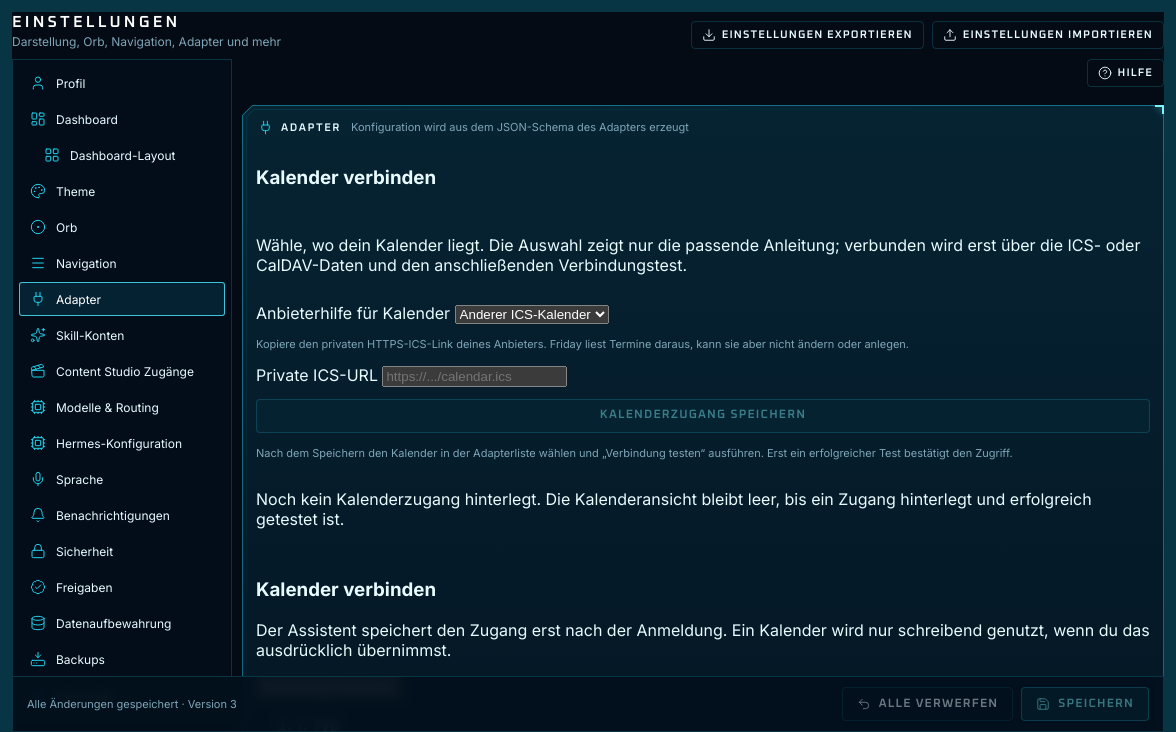
Test: calendar provider guidance › guides common providers without changing saved settings or losing drafts
Check: the text "Die Auswahl zeigt nur die passende Anleitung" is shown, box [256,235,1140,275]
Select "Google Kalender" in the dropdown labelled "Anbieterhilfe für Kalender" at (532,315), box [455,305,609,324]
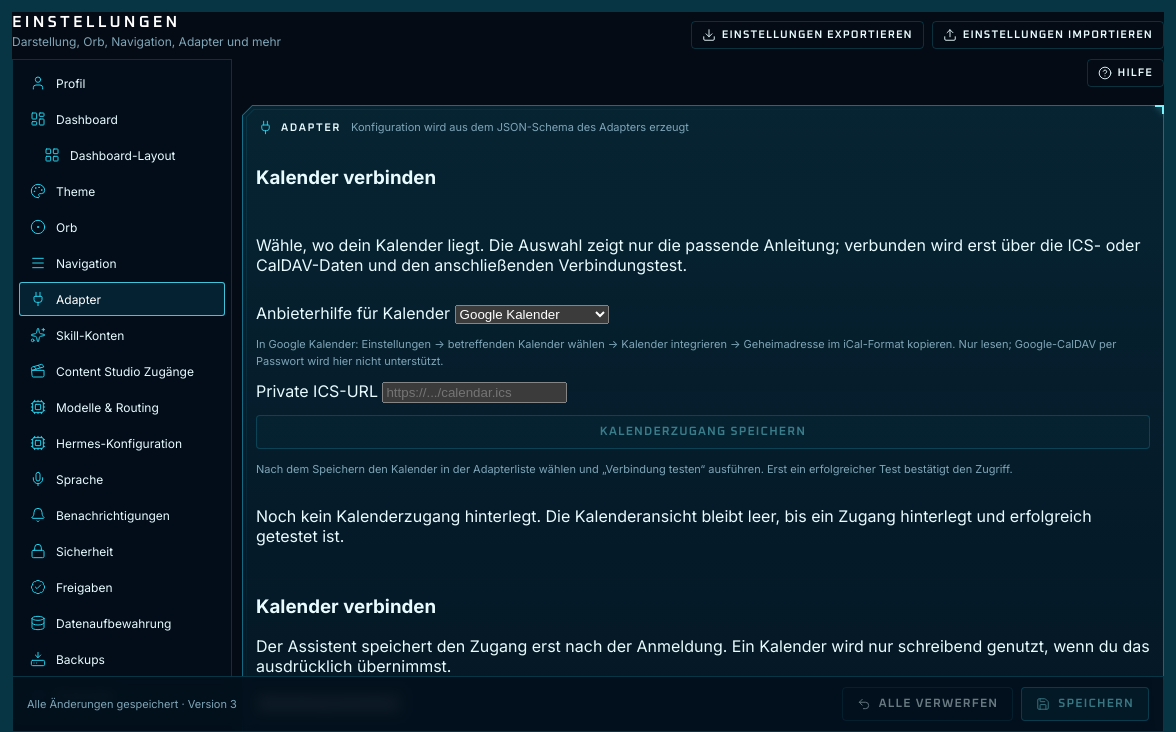
Check: the text "Google-CalDAV per Passwort wird hier nicht unterstützt" is shown, box [256,337,1116,368]
Type "https://example.test/private.ics" into the password field labelled "Private ICS-URL" at (475,393), box [382,382,567,403]
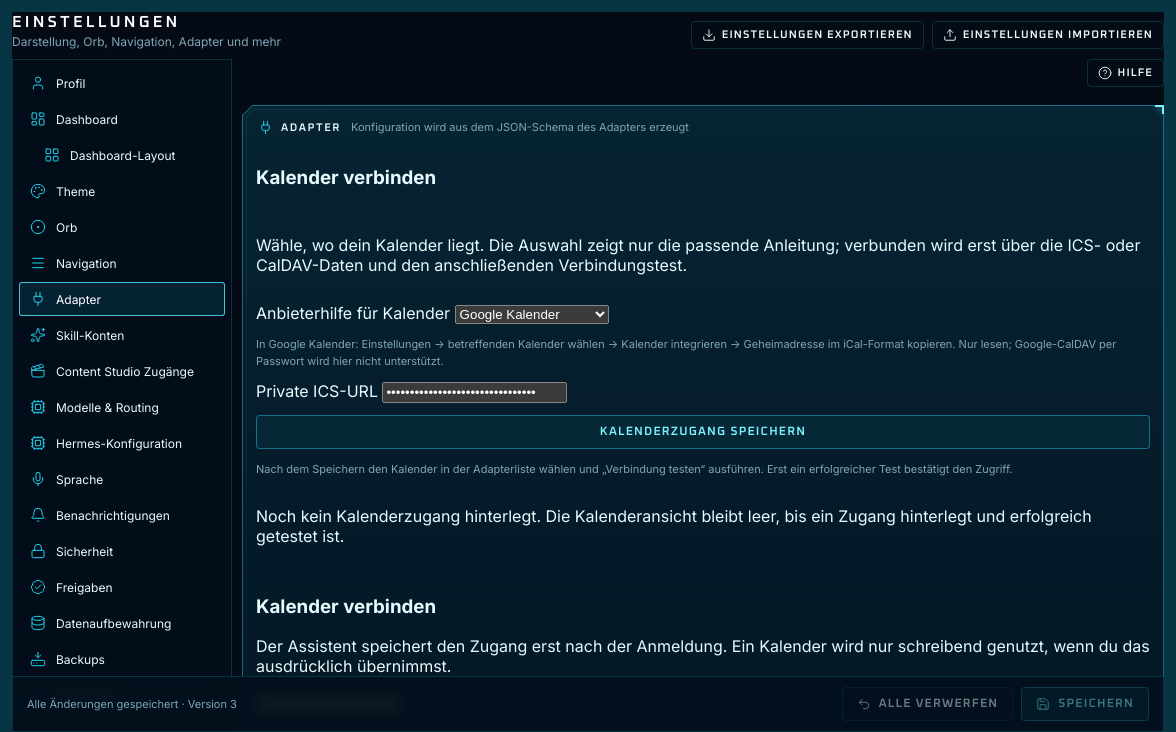
Select "Outlook.com" in the dropdown labelled "Anbieterhilfe für Kalender" at (532,315), box [455,305,609,324]
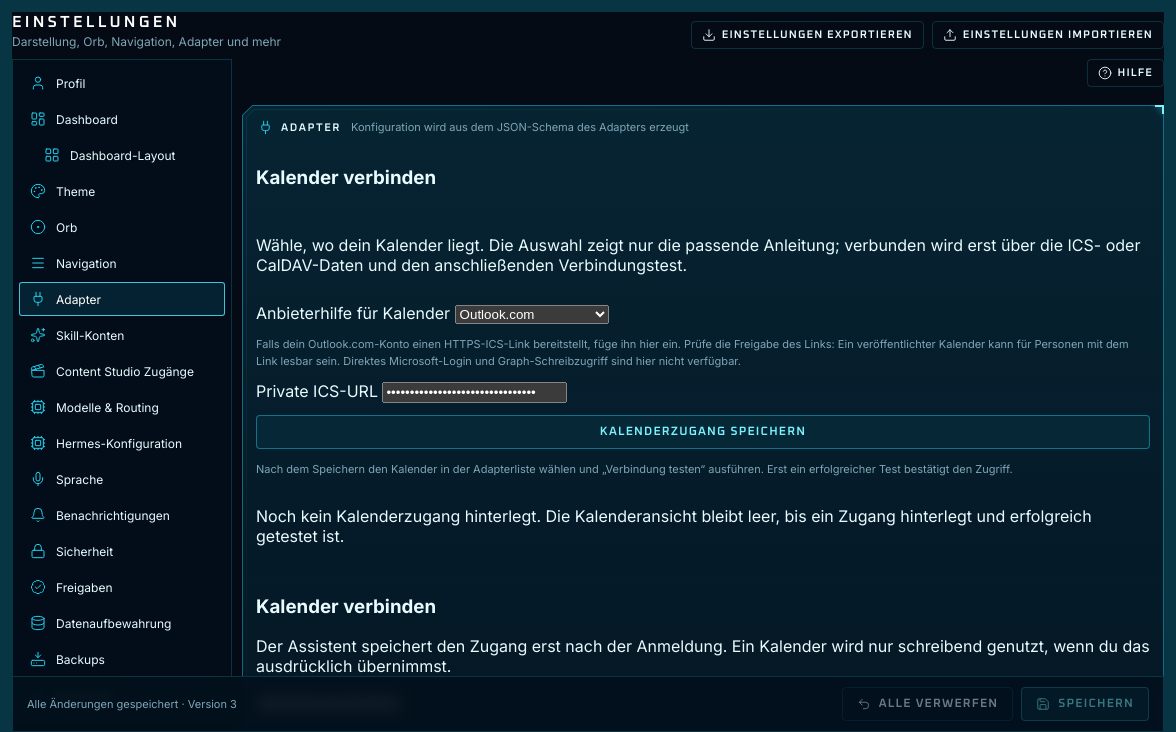
Check: the text "Direktes Microsoft-Login und Graph-Schreibzugriff" is shown, box [256,337,1129,368]
Select "Windows Kalender" in the dropdown labelled "Anbieterhilfe für Kalender" at (532,315), box [455,305,609,324]
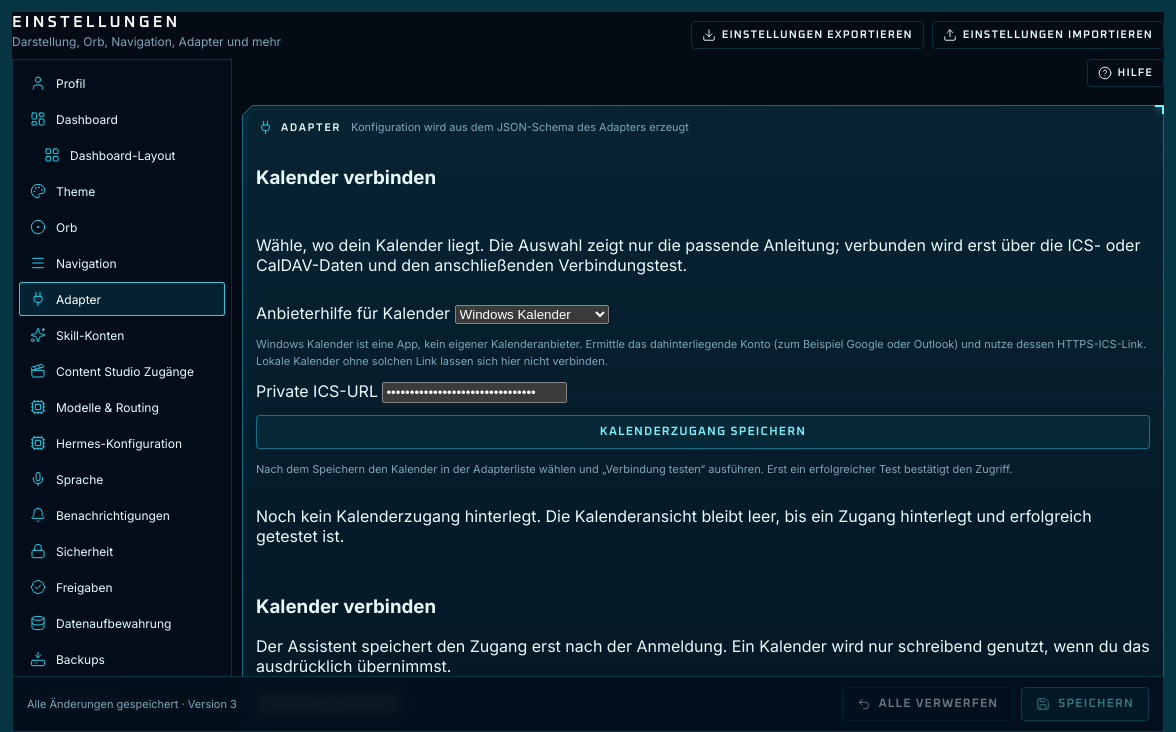
Check: the text "Windows Kalender ist eine App" is shown, box [256,337,1146,368]
Select "CalDAV-Anbieter" in the dropdown labelled "Anbieterhilfe für Kalender" at (532,315), box [455,305,609,324]
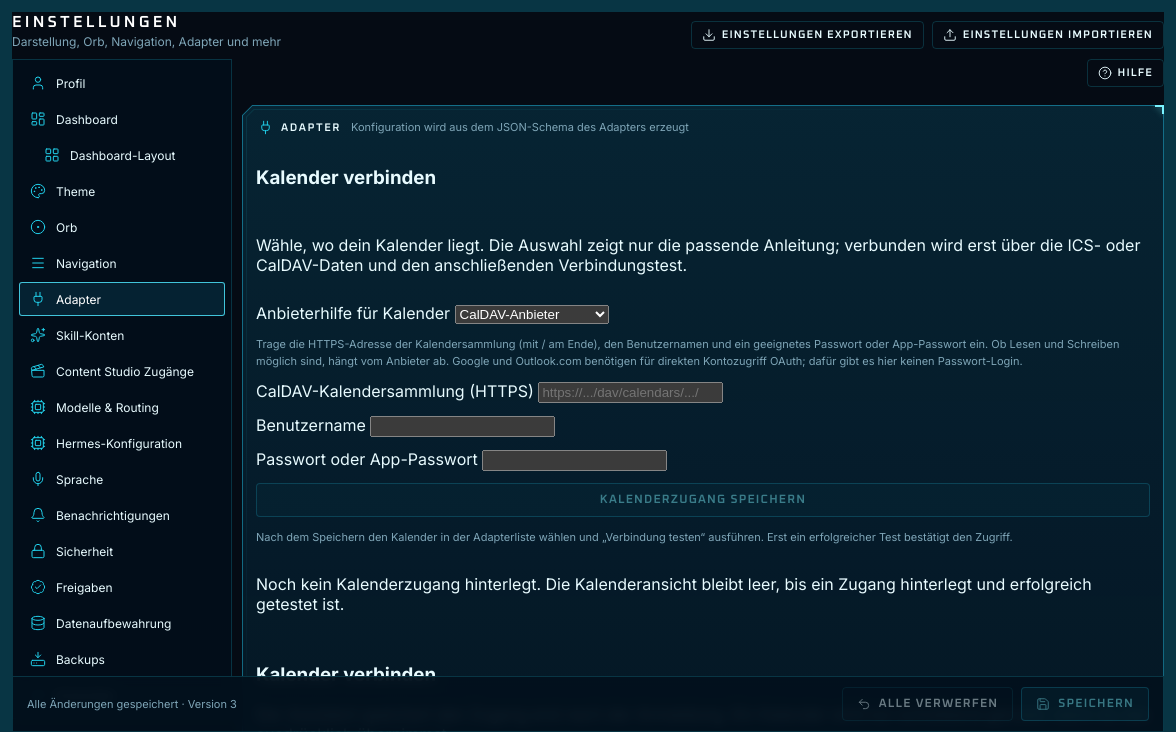
Check: the password field labelled "CalDAV-Kalendersammlung (HTTPS)" is shown, box [538,382,723,403]
Select "Anderer ICS-Kalender" in the dropdown labelled "Anbieterhilfe für Kalender" at (532,315), box [455,305,609,324]
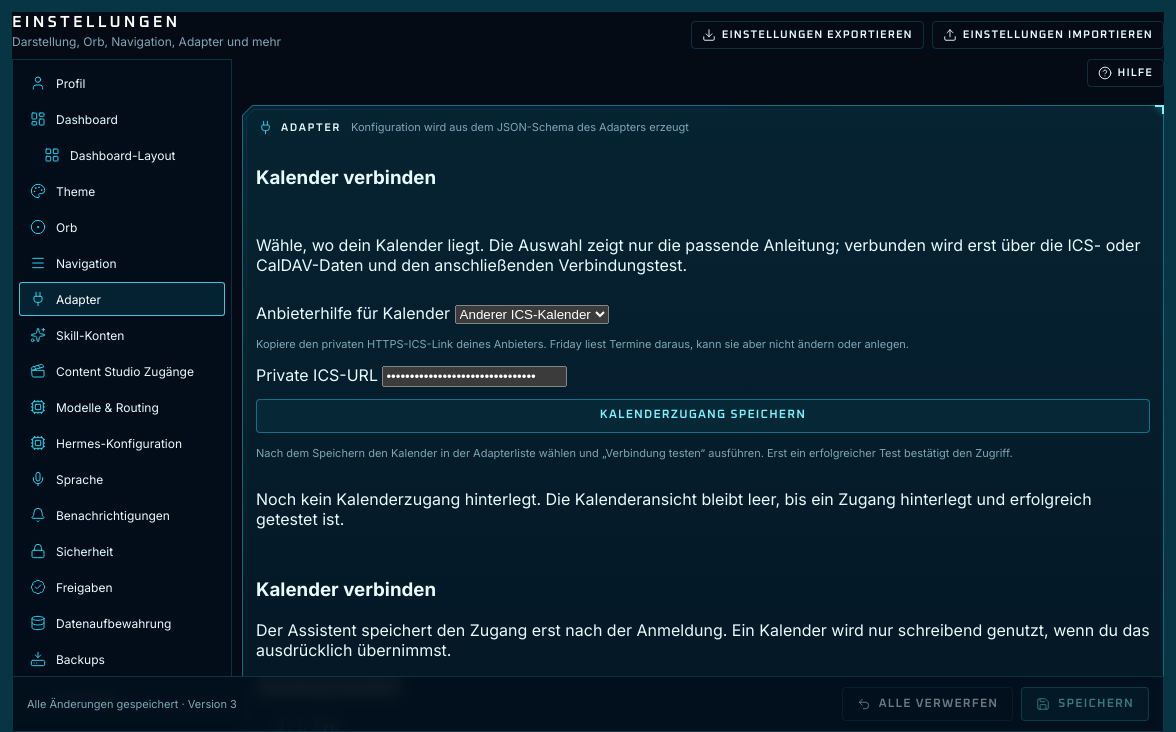
Check: the password field labelled "Private ICS-URL" holds "https://example.test/private.ics", box [382,366,567,387]
